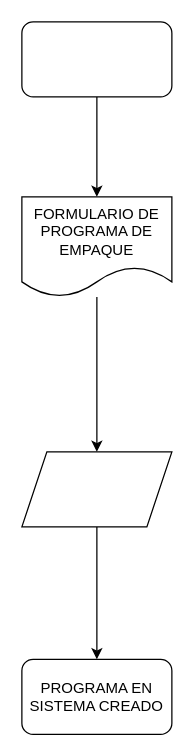
Image size: 194x756. Some labels were removed from this diagram. Here are the shapes that lost their labels. From the top down, the centre of each, then its label:
point 96,59: CREACIÓN DE PROGRAMA
point 96,489: CAPTURA EN SISUVEX
